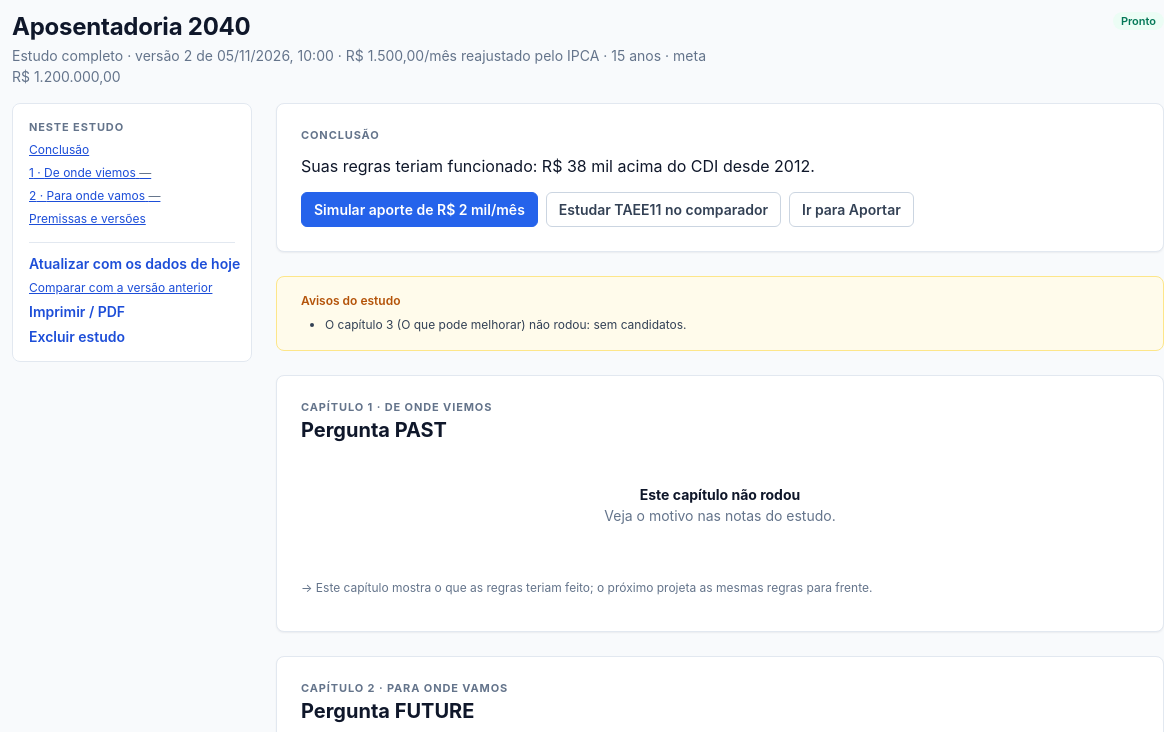
Test case: study page › tells the conclusion, the seals and the next steps
This screenshot has width=1164, height=732.
Check: the element named "Conclusão do estudo" shows "R$ 38 mil acima do CDI", box [301,156,815,176]
Check: the element "Avisos do estudo" shows "capítulo 3", box [325,317,687,332]
Click the button "Simular aporte de R$ 2 mil/mês".
click(419, 209)  # box [301,192,538,227]
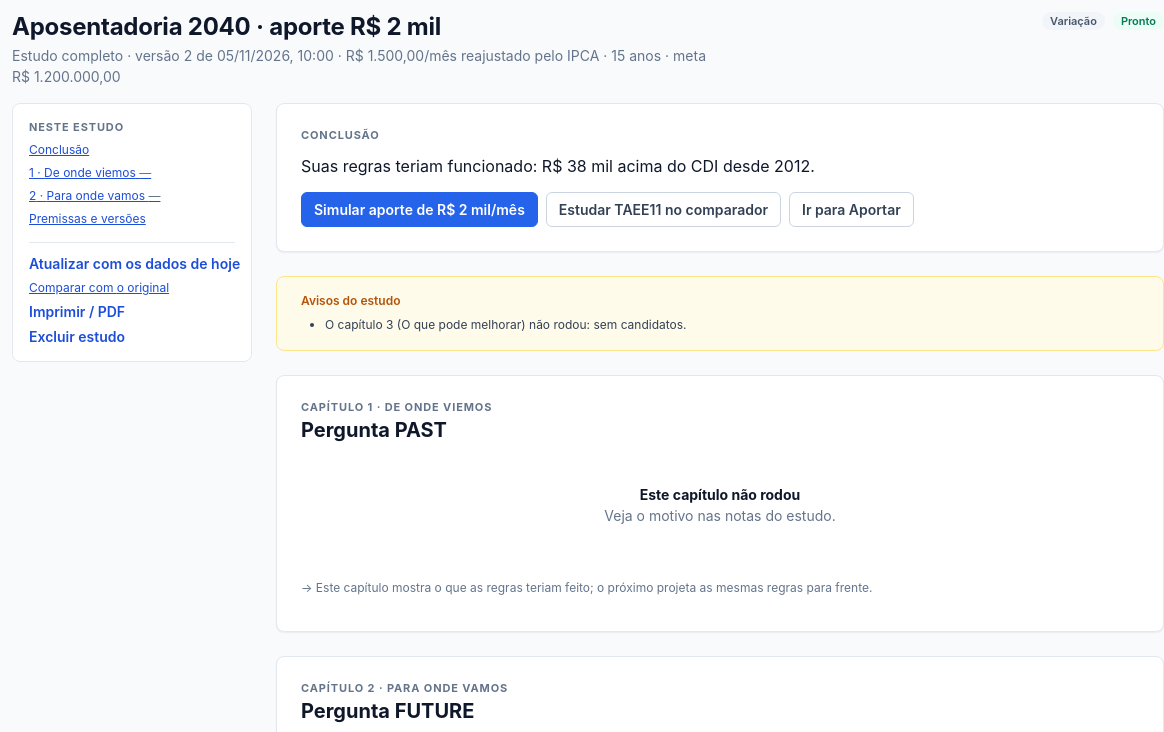
Check: the heading "Aposentadoria 2040 · aporte R$ 2 mil" is shown, box [12,12,441,41]
